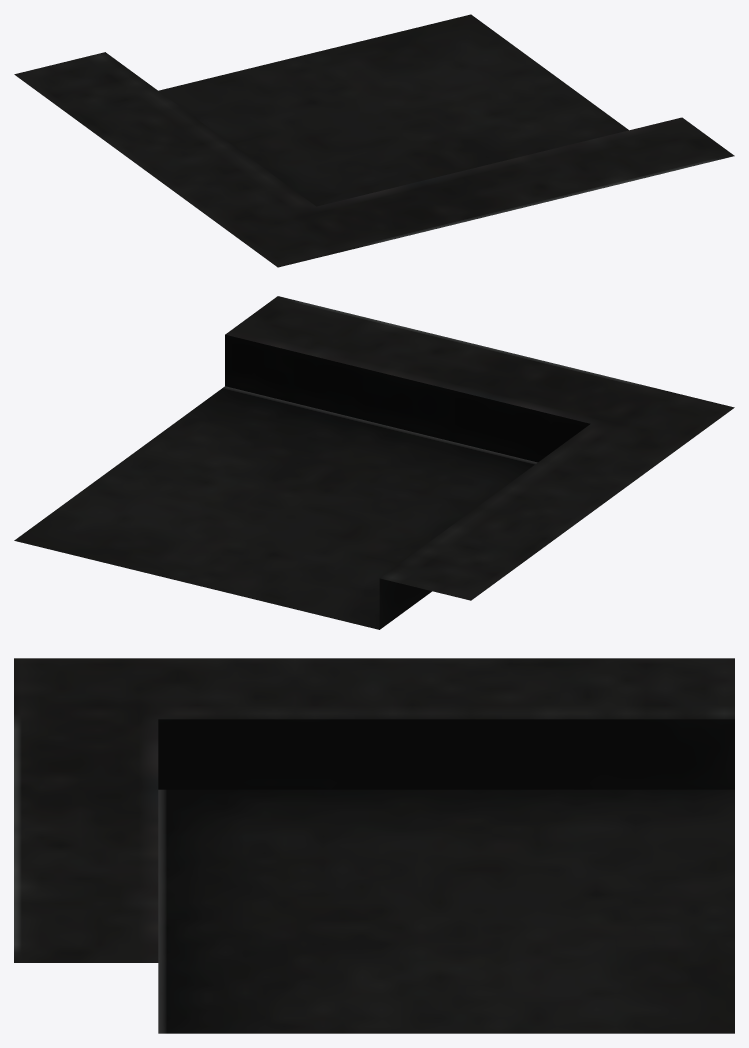
File: Roof_CornerPart.FBX
The picture shows the model from 3 angles, top to bottom: view 1: azimuth 30°, elevation 25°; view 2: azimuth 150°, elevation 25°; view 3: azimuth 270°, elevation 25°; orthographic projection. The views are drawn at different scales.
Visible parts, largest first — view 1: Roof_CornerPart; view 2: Roof_CornerPart; view 3: Roof_CornerPart.
Part boxes in pixels (x1,y1,x2,y2): Roof_CornerPart: (14, 14, 734, 267); Roof_CornerPart: (14, 296, 734, 629); Roof_CornerPart: (14, 658, 734, 1033).
Bounding box in the file's own units: 4 × 0.4311 × 4.
